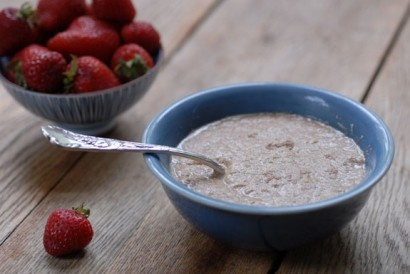background: (108, 42, 235, 88), (0, 0, 103, 41), (27, 23, 60, 109)
